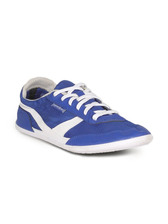shoes: (10, 74, 157, 155)
